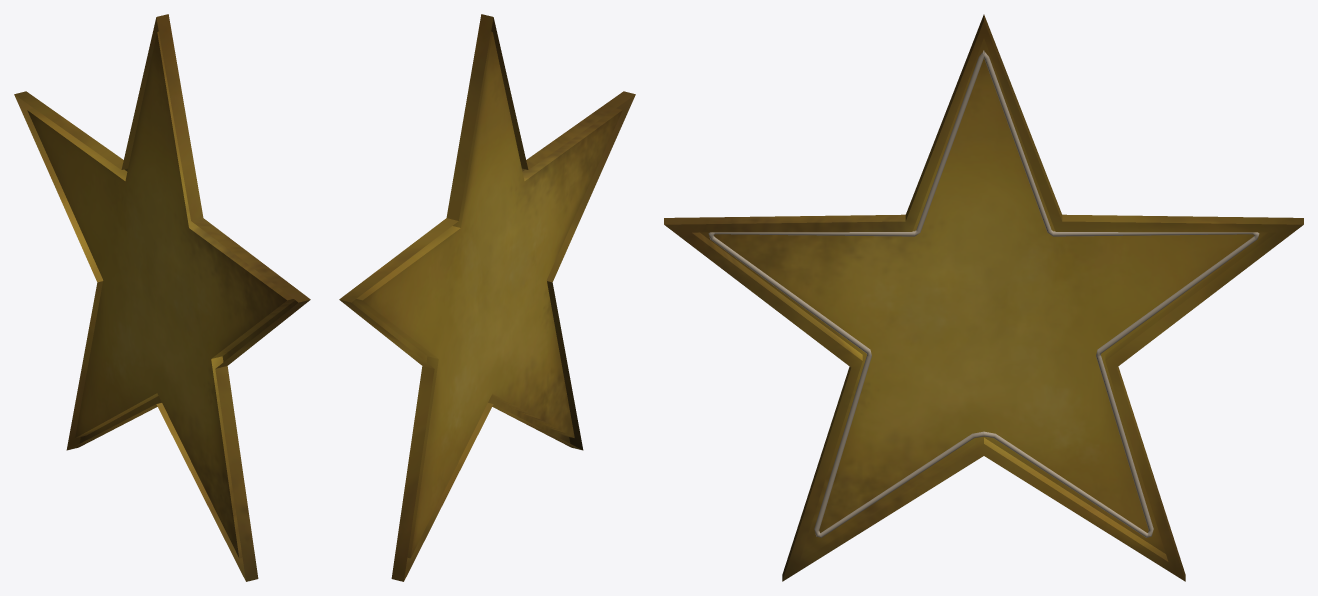
File: StarSign.fbx
The picture shows the model from 3 angles, left to right: view 1: azimuth 30°, elevation 25°; view 2: azimuth 150°, elevation 25°; view 3: azimuth 270°, elevation 25°; orthographic projection. The views are drawn at different scales.
Parts seen in each view (by area): view 1: StarSign; view 2: StarSign; view 3: StarSign, Star_Light_1, Star_Light_2.
Part boxes in pixels (x1=…): StarSign: x1=14, y1=14, x2=310, y2=581; StarSign: x1=339, y1=14, x2=635, y2=581; StarSign: x1=664, y1=14, x2=1303, y2=581; Star_Light_1: x1=708, y1=50, x2=984, y2=537; Star_Light_2: x1=983, y1=50, x2=1259, y2=537.
Bounding box in the file's own units: 1.64 × 63.7 × 65.82.
